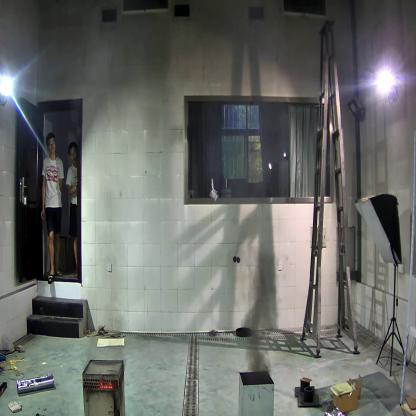smoke: (239, 263, 278, 373)
